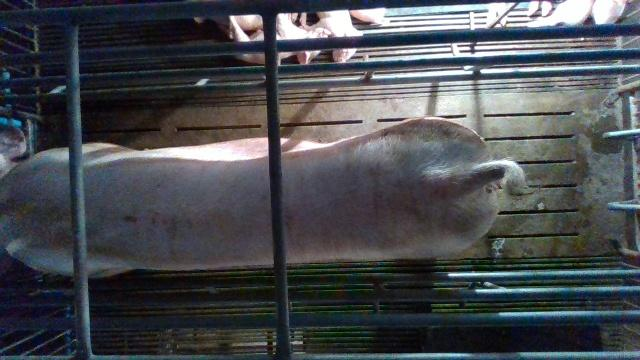piglet: (230, 13, 331, 64), (298, 10, 363, 63)
sow-stand-feed: (0, 116, 534, 279)
